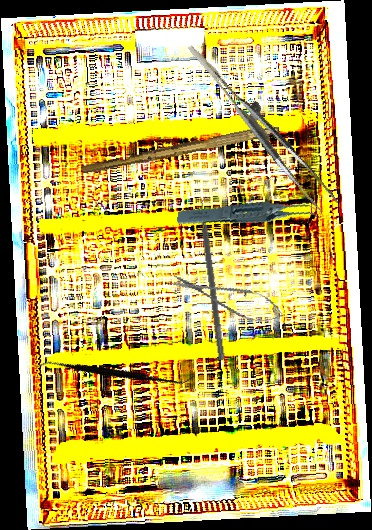Micro Scissor: (167, 265, 288, 330)
Scalpel Handle: (81, 119, 280, 179)
Spatula Surgical: (34, 306, 196, 437), (195, 195, 233, 361)
Tissue Forceps: (187, 24, 339, 226), (176, 181, 322, 251)
